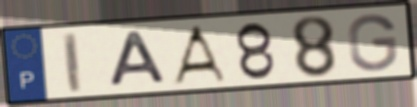8: (290, 14, 339, 79), (233, 21, 277, 81)
A: (169, 23, 229, 85), (108, 29, 170, 89)
G: (346, 12, 400, 73)
I: (60, 30, 85, 95)
